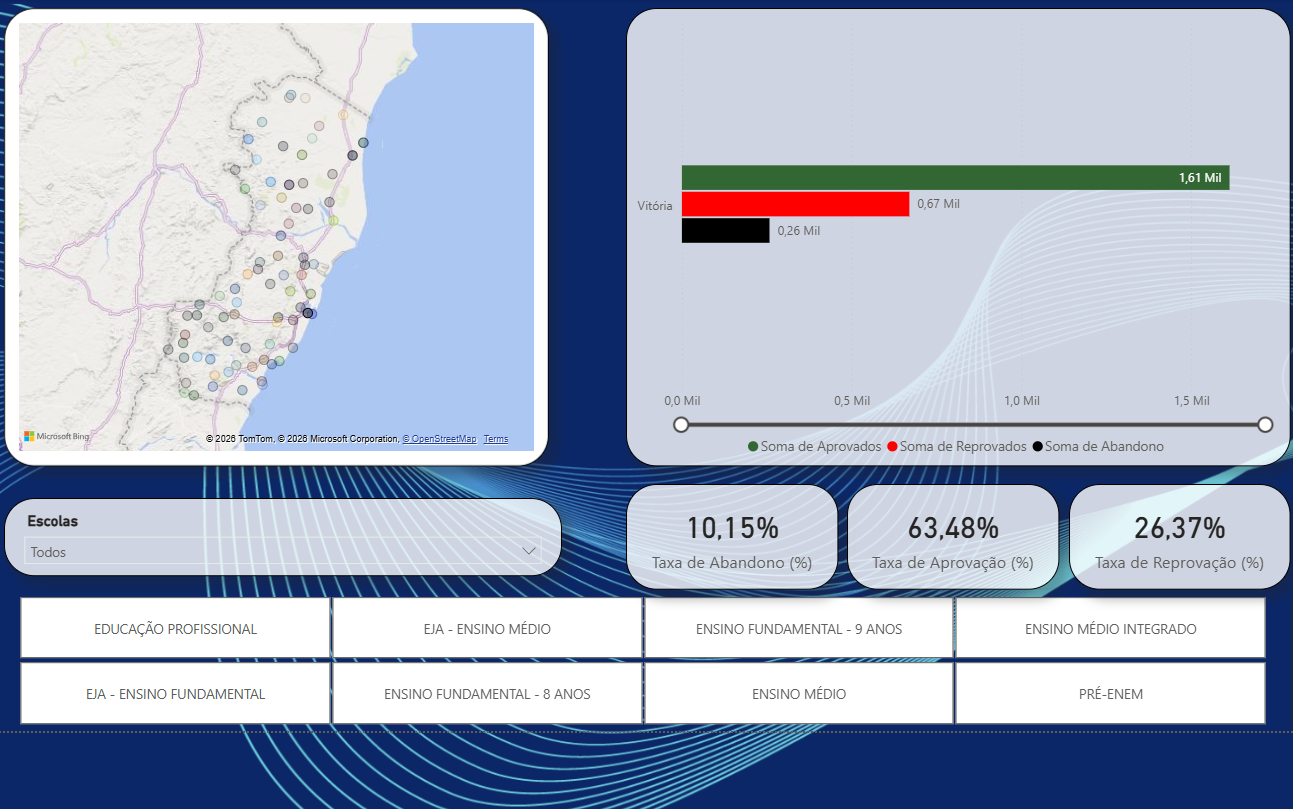

The dashboard page shown, as its layout file describes it:
{"tool":"powerbi","page":{"name":"Página 1","canvas":[1280,720],"ordinal":0},"visuals":[{"type":"map","fields":{"Category":["dadosrendimento.REGIÃO AJUSTADA"],"Series":["dadosrendimento.Municipio"]},"box":[9.9,9,536.4,451.3],"z":0},{"type":"clusteredBarChart","fields":{"Category":["dadosrendimento.Municipio"],"Y":["Sum(dadosrendimento.TotalAprovados)","Sum(dadosrendimento.TotalReprovados)","Sum(dadosrendimento.TotalAbandonos)"]},"box":[621.5,9,653.7,451.3],"z":1000},{"type":"slicer","fields":{"Values":["dadosrendimento.Escola","dadosrendimento.Municipio"]},"box":[9.8,490.9,536.2,76.7],"z":2000},{"type":"slicer","fields":{"Values":["dadosrendimento.TipoEnsino"]},"box":[0,581.2,1275.2,138.8],"z":3000},{"type":"card","fields":{"Values":["dadosrendimento.Taxa de Abandono (%)"]},"box":[621.5,477.3,208.7,103.9],"z":4000},{"type":"card","fields":{"Values":["dadosrendimento.Taxa de Aprovação (%)"]},"box":[839.1,477.3,208.7,103.9],"z":6000},{"type":"card","fields":{"Values":["dadosrendimento.Taxa de Reprovação (%)"]},"box":[1057.6,477.3,217.6,103.9],"z":7000}]}

Visuals, with their boxes on the page's 1280x720 design canvas (x1, y1, x2, y2). These are canvas units, not pixel positions in the 1293x809 screenshot, which may show the page scaled, cropped or inside an application window:
map - dadosrendimento.REGIÃO AJUSTADA x dadosrendimento.Municipio: region(10, 9, 546, 460)
clusteredBarChart - dadosrendimento.Municipio x Sum(dadosrendimento.TotalAprovados): region(622, 9, 1275, 460)
slicer - dadosrendimento.Escola x dadosrendimento.Municipio: region(10, 491, 546, 568)
slicer - dadosrendimento.TipoEnsino: region(0, 581, 1275, 720)
card - dadosrendimento.Taxa de Abandono (%): region(622, 477, 830, 581)
card - dadosrendimento.Taxa de Aprovação (%): region(839, 477, 1048, 581)
card - dadosrendimento.Taxa de Reprovação (%): region(1058, 477, 1275, 581)
